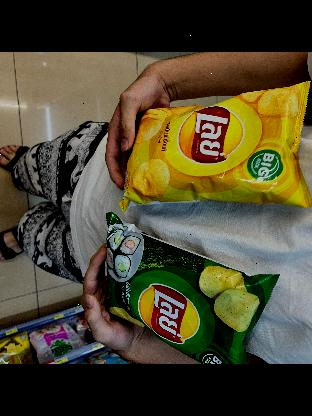Others: (109, 73, 312, 217), (98, 214, 286, 364)
